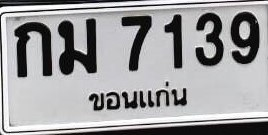txt01: (13, 21, 54, 80)
txt28: (56, 17, 99, 77)
